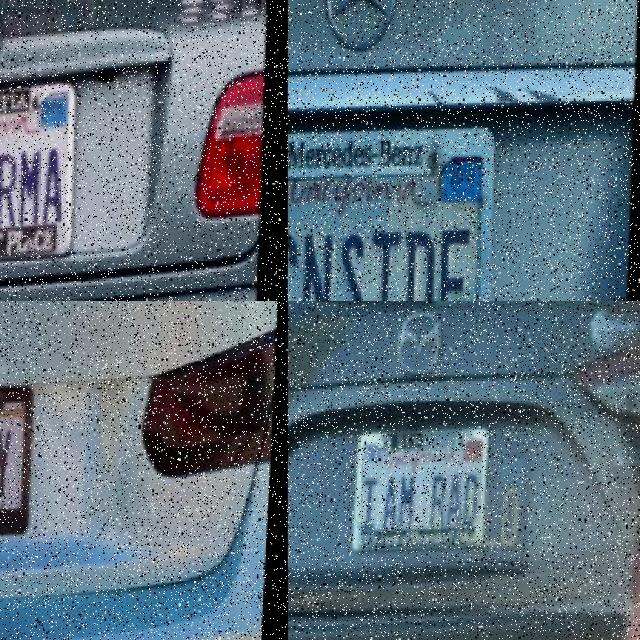licenseplate: (288, 123, 506, 300), (0, 92, 98, 270), (356, 423, 490, 548)
